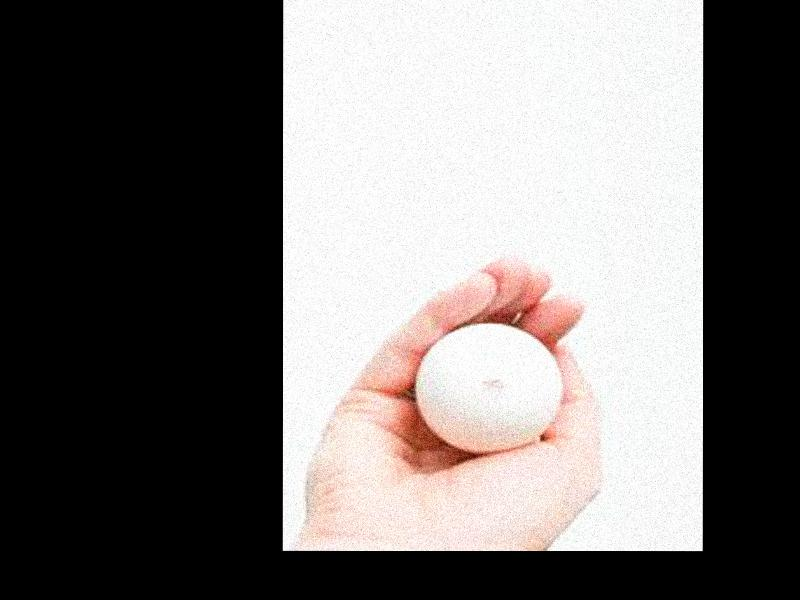Eggs: (417, 323, 557, 451)
